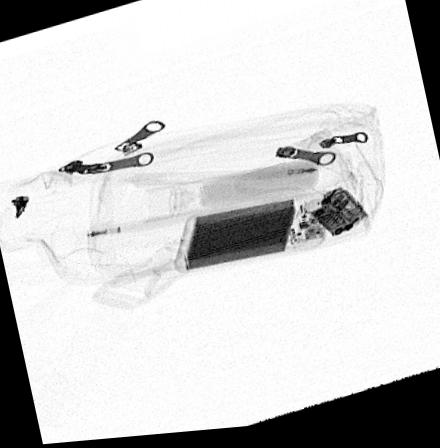Powerbank: (171, 196, 331, 277)
